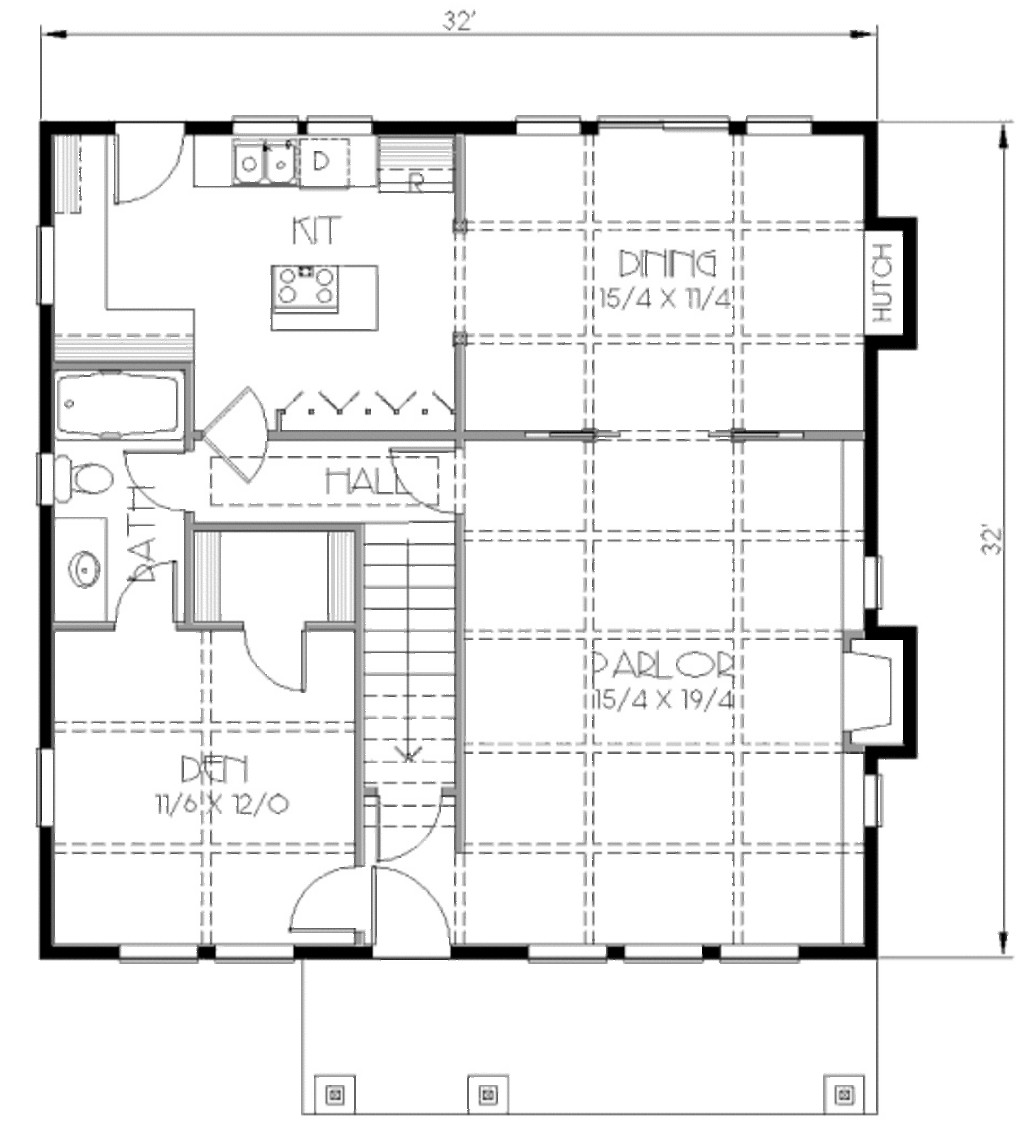door: (102, 118, 196, 214), (371, 433, 477, 514), (369, 868, 455, 961), (284, 857, 365, 945), (365, 781, 443, 864), (236, 619, 315, 699), (109, 552, 183, 633), (119, 447, 203, 516), (193, 388, 274, 440)
kitchen_bar: (234, 245, 395, 349)
large_sink: (42, 438, 123, 518)
small_sink: (50, 516, 109, 625)
stairs: (353, 521, 459, 802)
tub: (55, 366, 188, 444)
twin_sink: (226, 137, 310, 188)
window: (712, 938, 802, 966), (217, 937, 296, 963), (115, 940, 200, 964), (526, 940, 607, 964), (227, 113, 300, 138), (510, 111, 581, 135), (34, 747, 55, 828), (619, 940, 707, 959), (310, 116, 372, 142), (37, 222, 51, 299)
